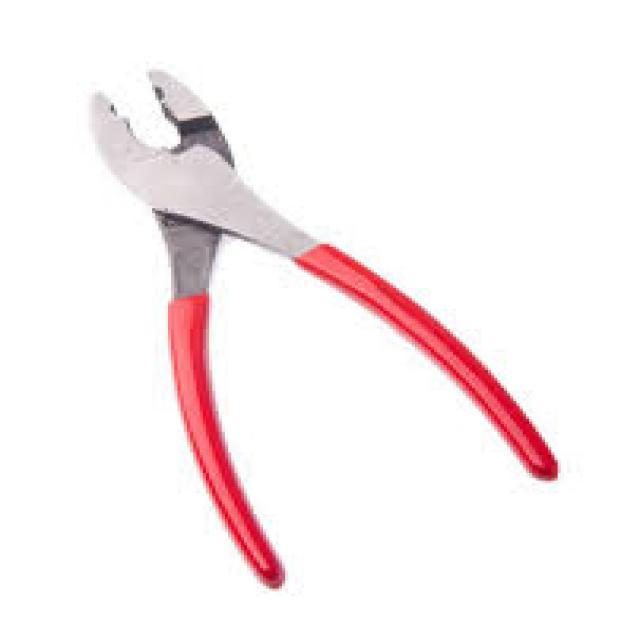pliers: (68, 58, 580, 596)
